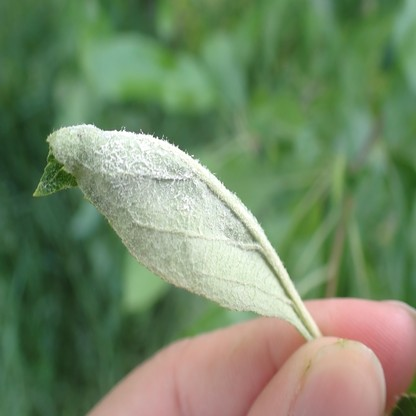powder: (33, 123, 294, 317)
